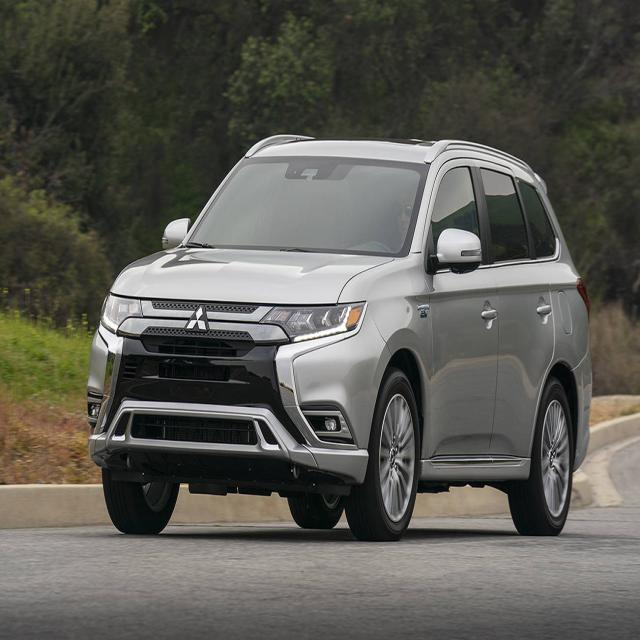light_vehicle: (86, 131, 593, 542)
